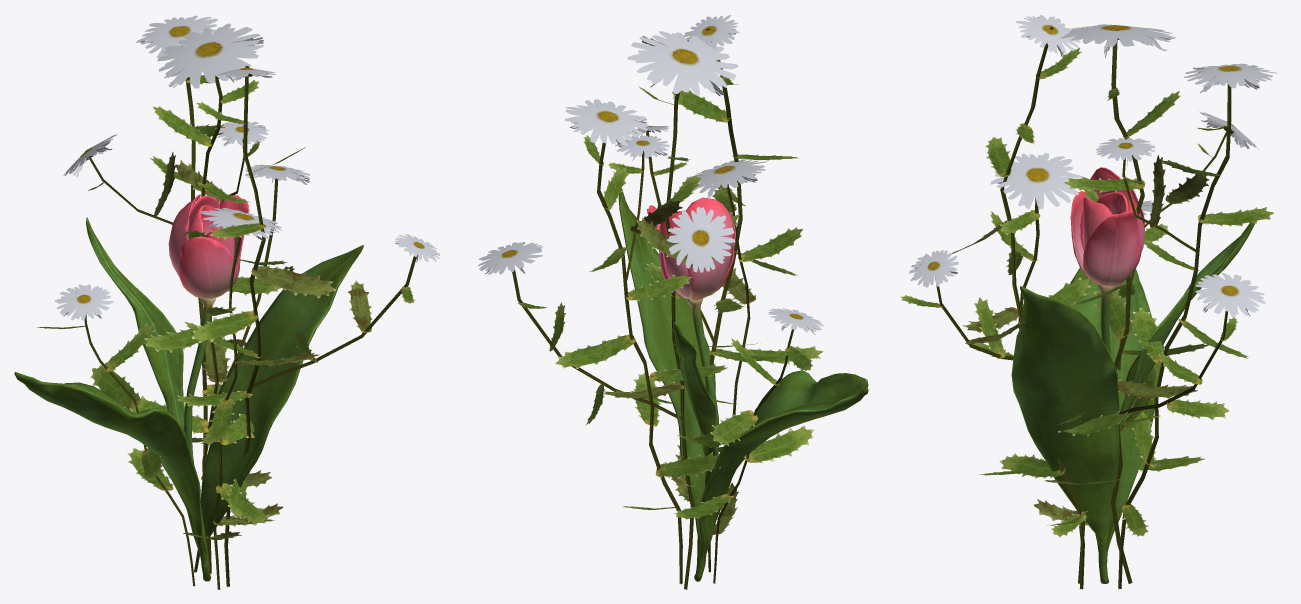
The model's file is bouquet.glb.
3 renders of one model, left to right at view 1: azimuth 30°, elevation 25°; view 2: azimuth 150°, elevation 25°; view 3: azimuth 270°, elevation 25°, orthographic. The views are drawn at different scales.
Parts seen in each view (by area): view 1: tulipa_lod0, daisy_2_lod0, daisy_1_lod0; view 2: daisy_2_lod0, tulipa_lod0, daisy_1_lod0; view 3: tulipa_lod0, daisy_2_lod0, daisy_1_lod0.
Part boxes in pixels (x1=…): tulipa_lod0: x1=14, y1=194, x2=363, y2=581; daisy_2_lod0: x1=37, y1=15, x2=440, y2=586; daisy_1_lod0: x1=63, y1=23, x2=319, y2=589; daisy_2_lod0: x1=555, y1=15, x2=823, y2=583; tulipa_lod0: x1=618, y1=188, x2=868, y2=581; daisy_1_lod0: x1=478, y1=31, x2=823, y2=589; tulipa_lod0: x1=1011, y1=167, x2=1254, y2=583; daisy_2_lod0: x1=900, y1=15, x2=1277, y2=589; daisy_1_lod0: x1=962, y1=24, x2=1265, y2=583.
Bounding box in the file's own units: 0.3922 × 0.5809 × 0.361.
2 materials, 2 textured.
